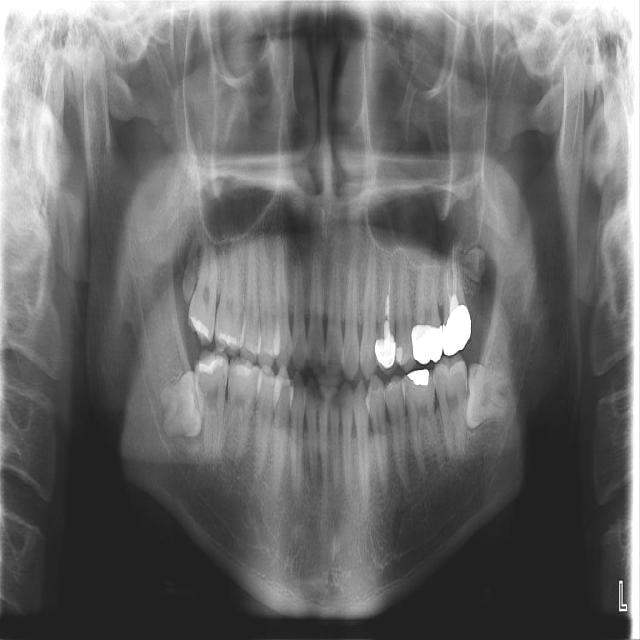Crown: (442, 305, 471, 356), (411, 324, 443, 365), (375, 330, 399, 378)
Filling: (405, 366, 430, 389), (198, 357, 225, 376), (217, 330, 240, 351), (190, 315, 209, 340), (232, 360, 254, 380), (396, 342, 411, 365)
Root Canal Treatment: (385, 274, 389, 332), (452, 249, 457, 294), (446, 270, 450, 310)
impacted tooth: (468, 364, 524, 429), (154, 371, 201, 437)
